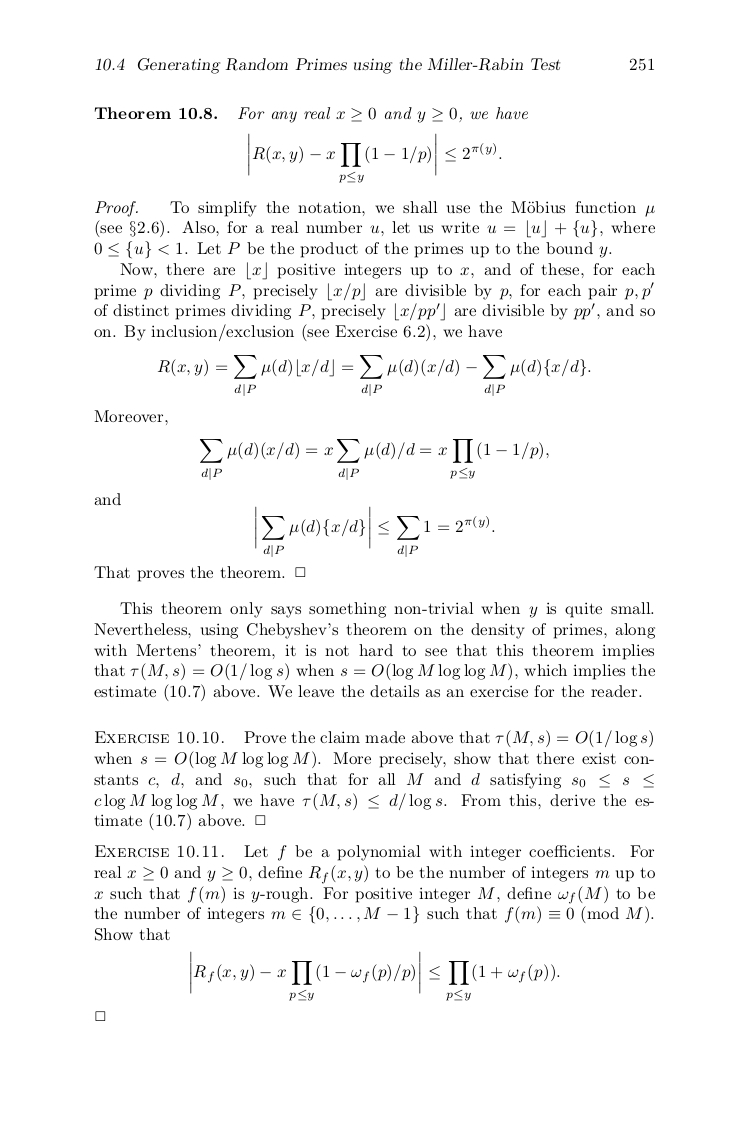formula: (190, 950, 559, 1001), (157, 355, 590, 395), (200, 439, 548, 479), (248, 132, 501, 183), (255, 505, 494, 557)
